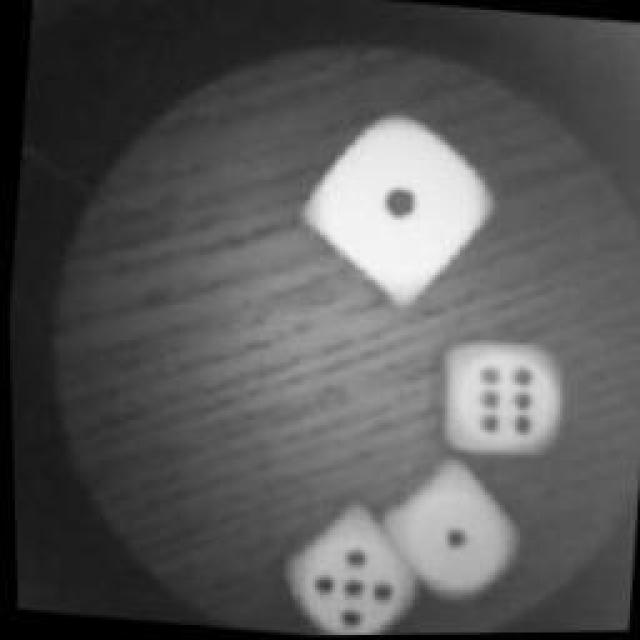dice_1: (289, 103, 496, 315), (375, 448, 530, 610)
dice_5: (269, 496, 419, 639)
dice_6: (425, 326, 570, 464)
